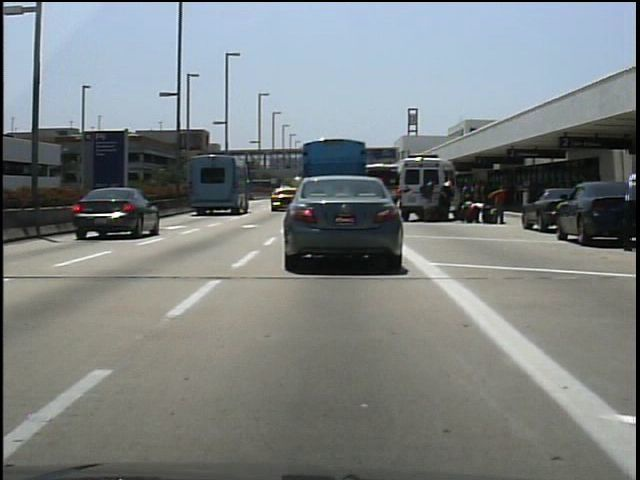person: (618, 158, 640, 252), (435, 176, 457, 225), (467, 178, 489, 224), (418, 174, 438, 223), (490, 183, 509, 228)
